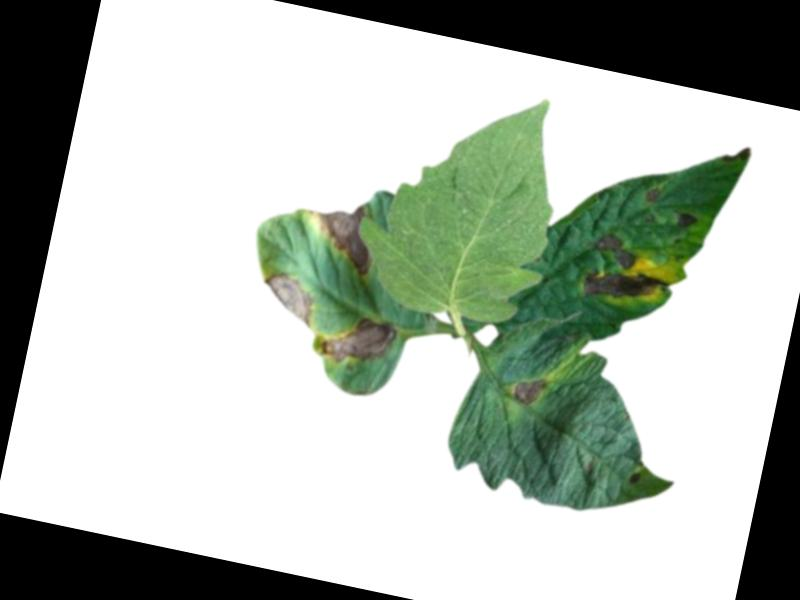Early_blight: (577, 228, 678, 313), (297, 193, 382, 277), (312, 305, 398, 372), (254, 268, 319, 331), (509, 370, 548, 408), (674, 207, 698, 230), (644, 185, 660, 203)
healthy: (341, 67, 579, 351), (627, 469, 641, 483)
